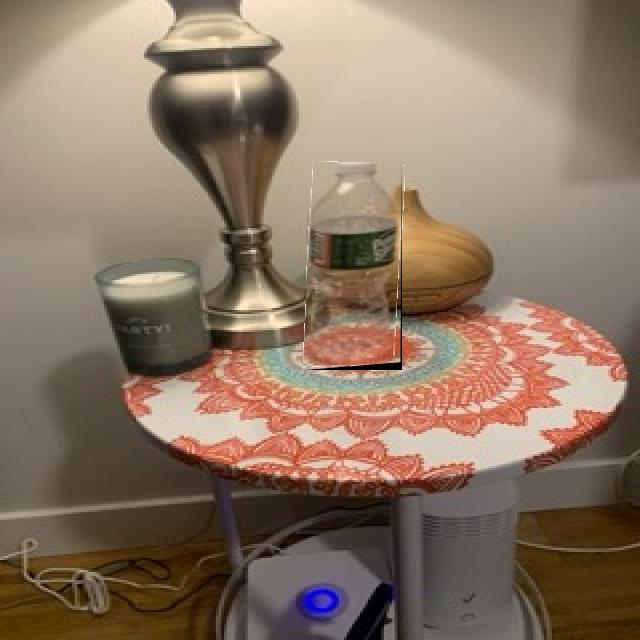water_bottle: (306, 162, 402, 370)
